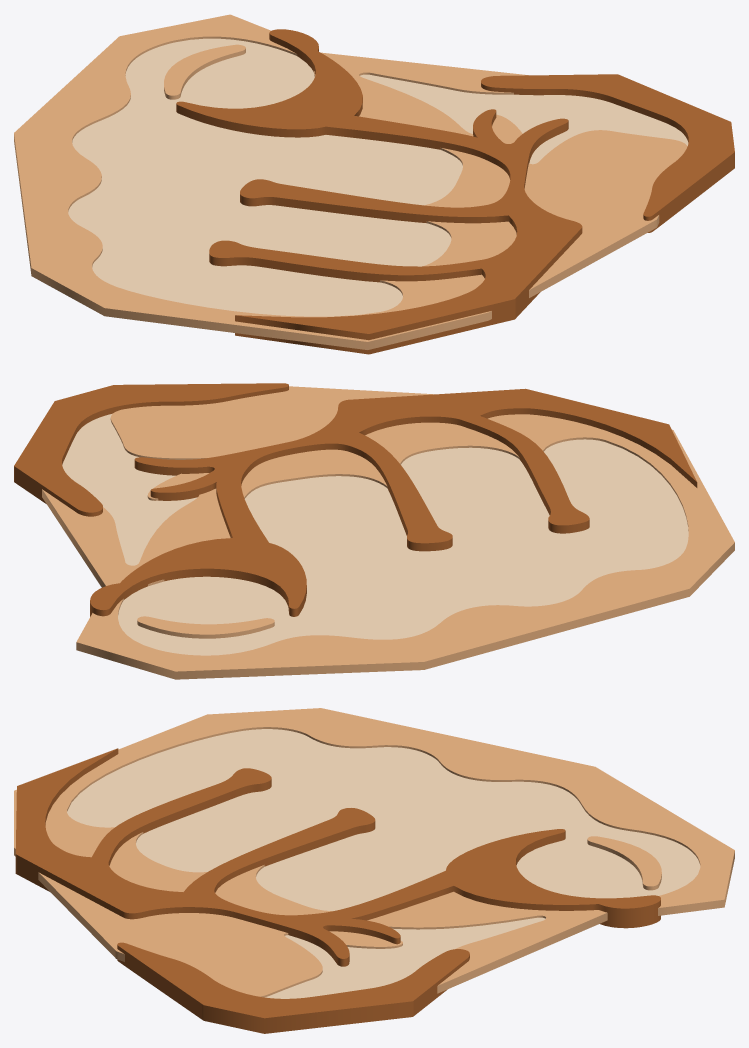
Rendered from emoji_u1faf5_1f3fb.glb.
3 renders of one model, top to bottom at view 1: azimuth 30°, elevation 25°; view 2: azimuth 150°, elevation 25°; view 3: azimuth 270°, elevation 25°, orthographic. The views are drawn at different scales.
Parts seen in each view (by area): view 1: emoji_u1faf5_1f3fb; view 2: emoji_u1faf5_1f3fb; view 3: emoji_u1faf5_1f3fb.
Part boxes in pixels (x1=…): emoji_u1faf5_1f3fb: x1=14, y1=14, x2=734, y2=354; emoji_u1faf5_1f3fb: x1=14, y1=383, x2=734, y2=679; emoji_u1faf5_1f3fb: x1=14, y1=708, x2=734, y2=1033.
Bounding box in the file's own units: 0.0344 × 0.001 × 0.0333.
